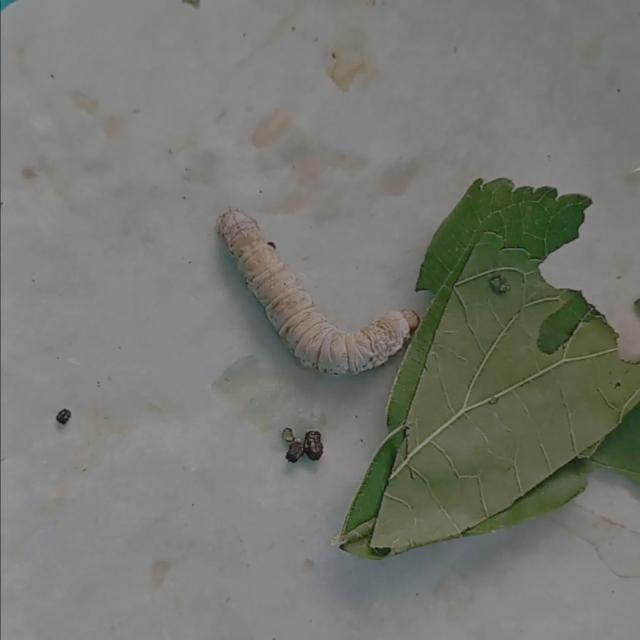Grasserie: (205, 201, 428, 381)
